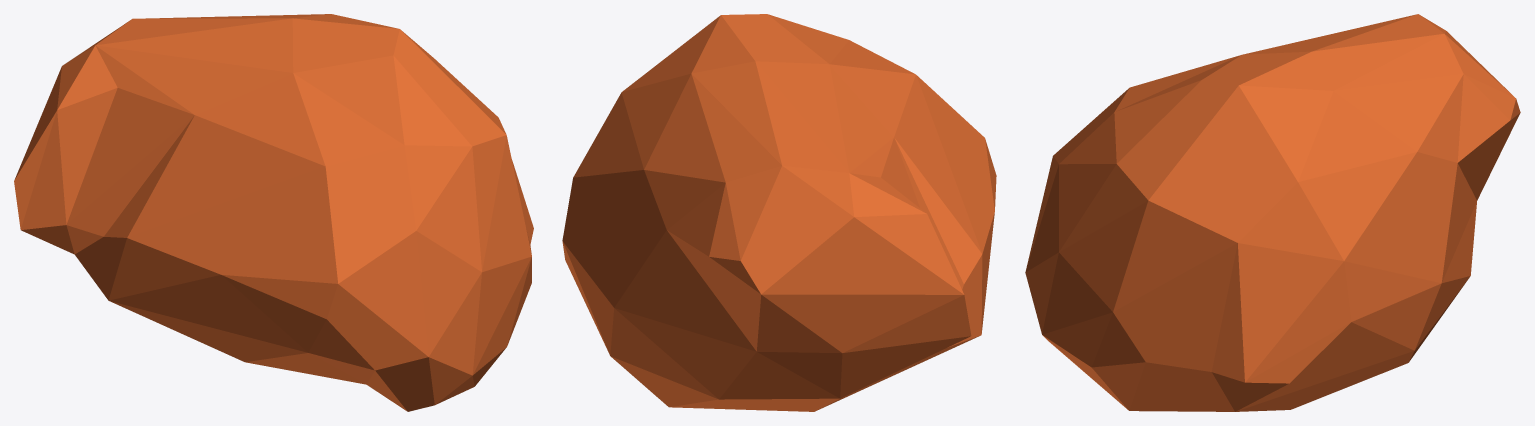
The model's file is Bush_02.fbx.
The picture shows the model from 3 angles, left to right: view 1: azimuth 30°, elevation 25°; view 2: azimuth 150°, elevation 25°; view 3: azimuth 270°, elevation 25°; orthographic projection. The views are drawn at different scales.
Parts seen in each view (by area): view 1: Bush_02; view 2: Bush_02; view 3: Bush_02.
Boxes of the visible parts, box(x1,y1,x2,y2) form: Bush_02: box(14, 14, 533, 411); Bush_02: box(562, 14, 996, 411); Bush_02: box(1025, 14, 1520, 411).
Size of the model in its own units: 284 by 199 by 277.
